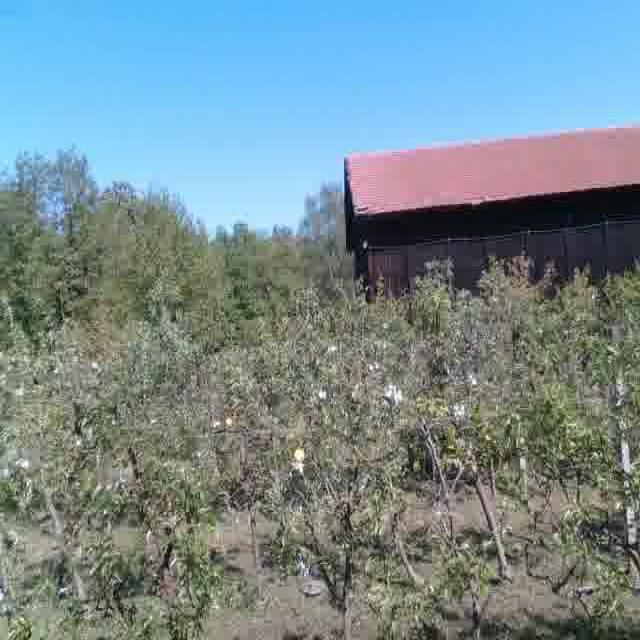yellow: (294, 448, 306, 462)
